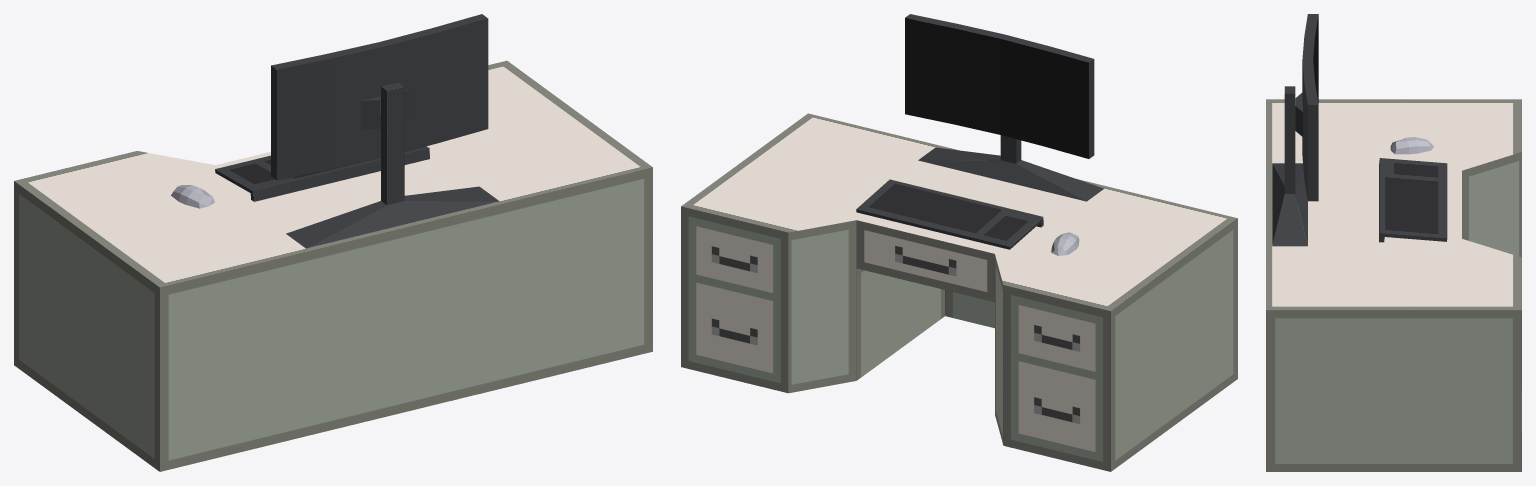
Rendered from labDesk.fbx.
3 views of the same model, side by side, from view 1: azimuth 30°, elevation 25°; view 2: azimuth 150°, elevation 25°; view 3: azimuth 270°, elevation 25° (orthographic). The views are drawn at different scales.
Parts seen in each view (by area): view 1: cuboid, cuboid_1, cuboid_2, cuboid_3, cylinder; view 2: cuboid, cuboid_1, cuboid_3, cuboid_2; view 3: cuboid, cuboid_3, cuboid_2, cuboid_1, cylinder.
Boxes of the visible parts, left/top/right/bottom form: cuboid: left=14, top=60, right=652, bottom=471; cuboid_1: left=271, top=14, right=488, bottom=180; cuboid_2: left=286, top=82, right=499, bottom=248; cuboid_3: left=215, top=146, right=430, bottom=201; cylinder: left=171, top=185, right=214, bottom=208; cuboid: left=681, top=113, right=1237, bottom=471; cuboid_1: left=905, top=14, right=1094, bottom=158; cuboid_3: left=856, top=179, right=1043, bottom=249; cuboid_2: left=918, top=135, right=1103, bottom=201; cuboid: left=1266, top=99, right=1521, bottom=471; cuboid_3: left=1379, top=158, right=1447, bottom=242; cuboid_2: left=1272, top=86, right=1307, bottom=246; cuboid_1: left=1302, top=14, right=1318, bottom=201; cylinder: left=1390, top=137, right=1433, bottom=154.
Size of the model in its own units: 175 by 119 by 89.64.
Materials: 1 (1 with a texture image).
